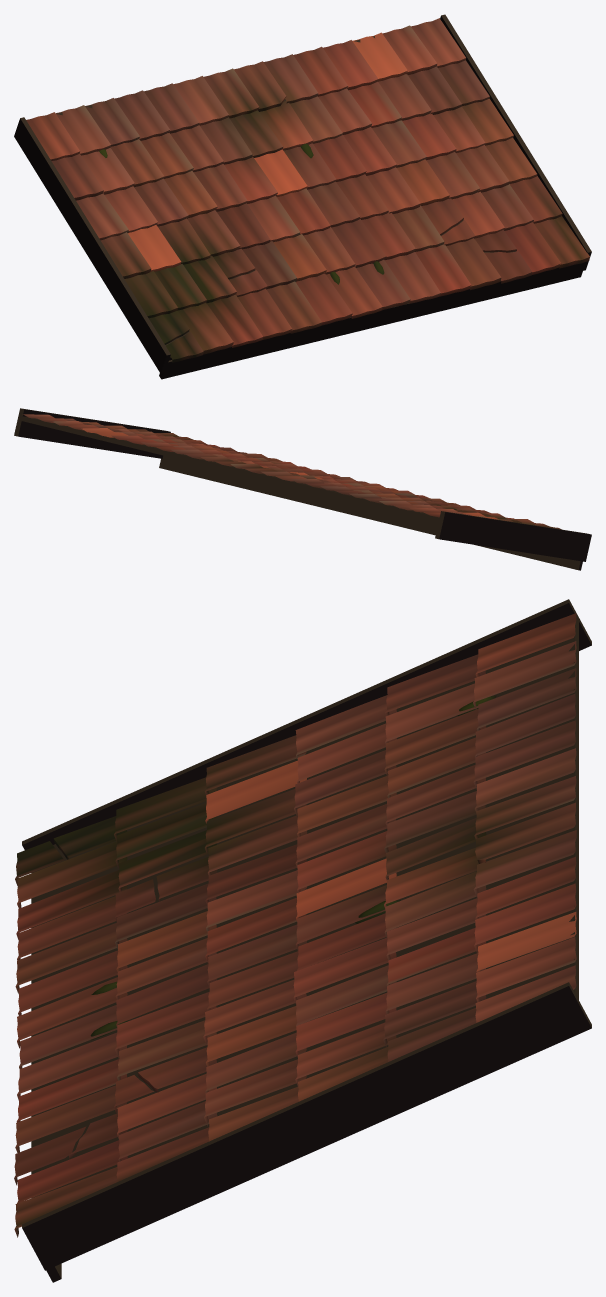
File: terracotta_panel_low.glb
3 renders of one model, top to bottom at view 1: azimuth 30°, elevation 25°; view 2: azimuth 150°, elevation 25°; view 3: azimuth 270°, elevation 25°, orthographic. The views are drawn at different scales.
Parts seen in each view (by area): view 1: hb_terracotta; view 2: hb_terracotta; view 3: hb_terracotta.
Boxes of the visible parts, left/top/right/bottom form: hb_terracotta: left=14, top=14, right=591, bottom=379; hb_terracotta: left=14, top=408, right=591, bottom=570; hb_terracotta: left=14, top=599, right=591, bottom=1282.
Size of the model in its own units: 3.06 by 1.11 by 1.93.
